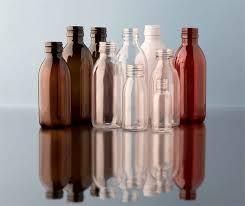Container for household chemicals: (36, 24, 215, 128)
